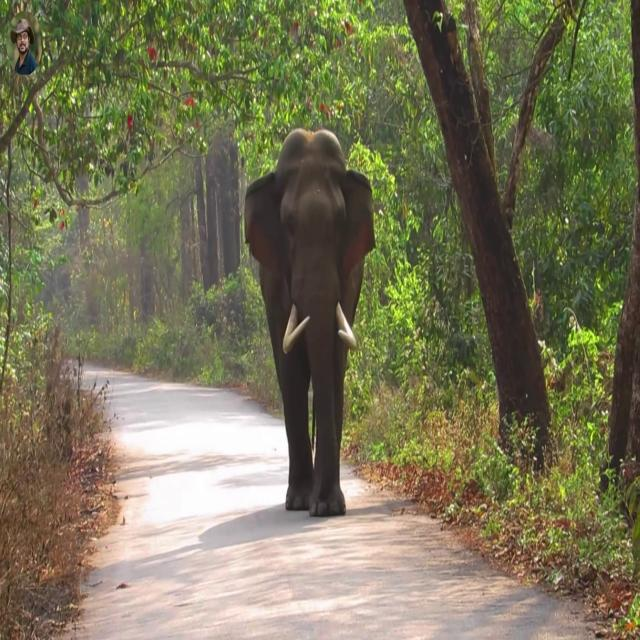Elephant: (244, 127, 376, 517)
